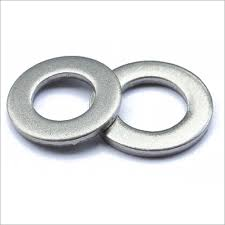No thread: (110, 74, 196, 134), (35, 70, 98, 123)
